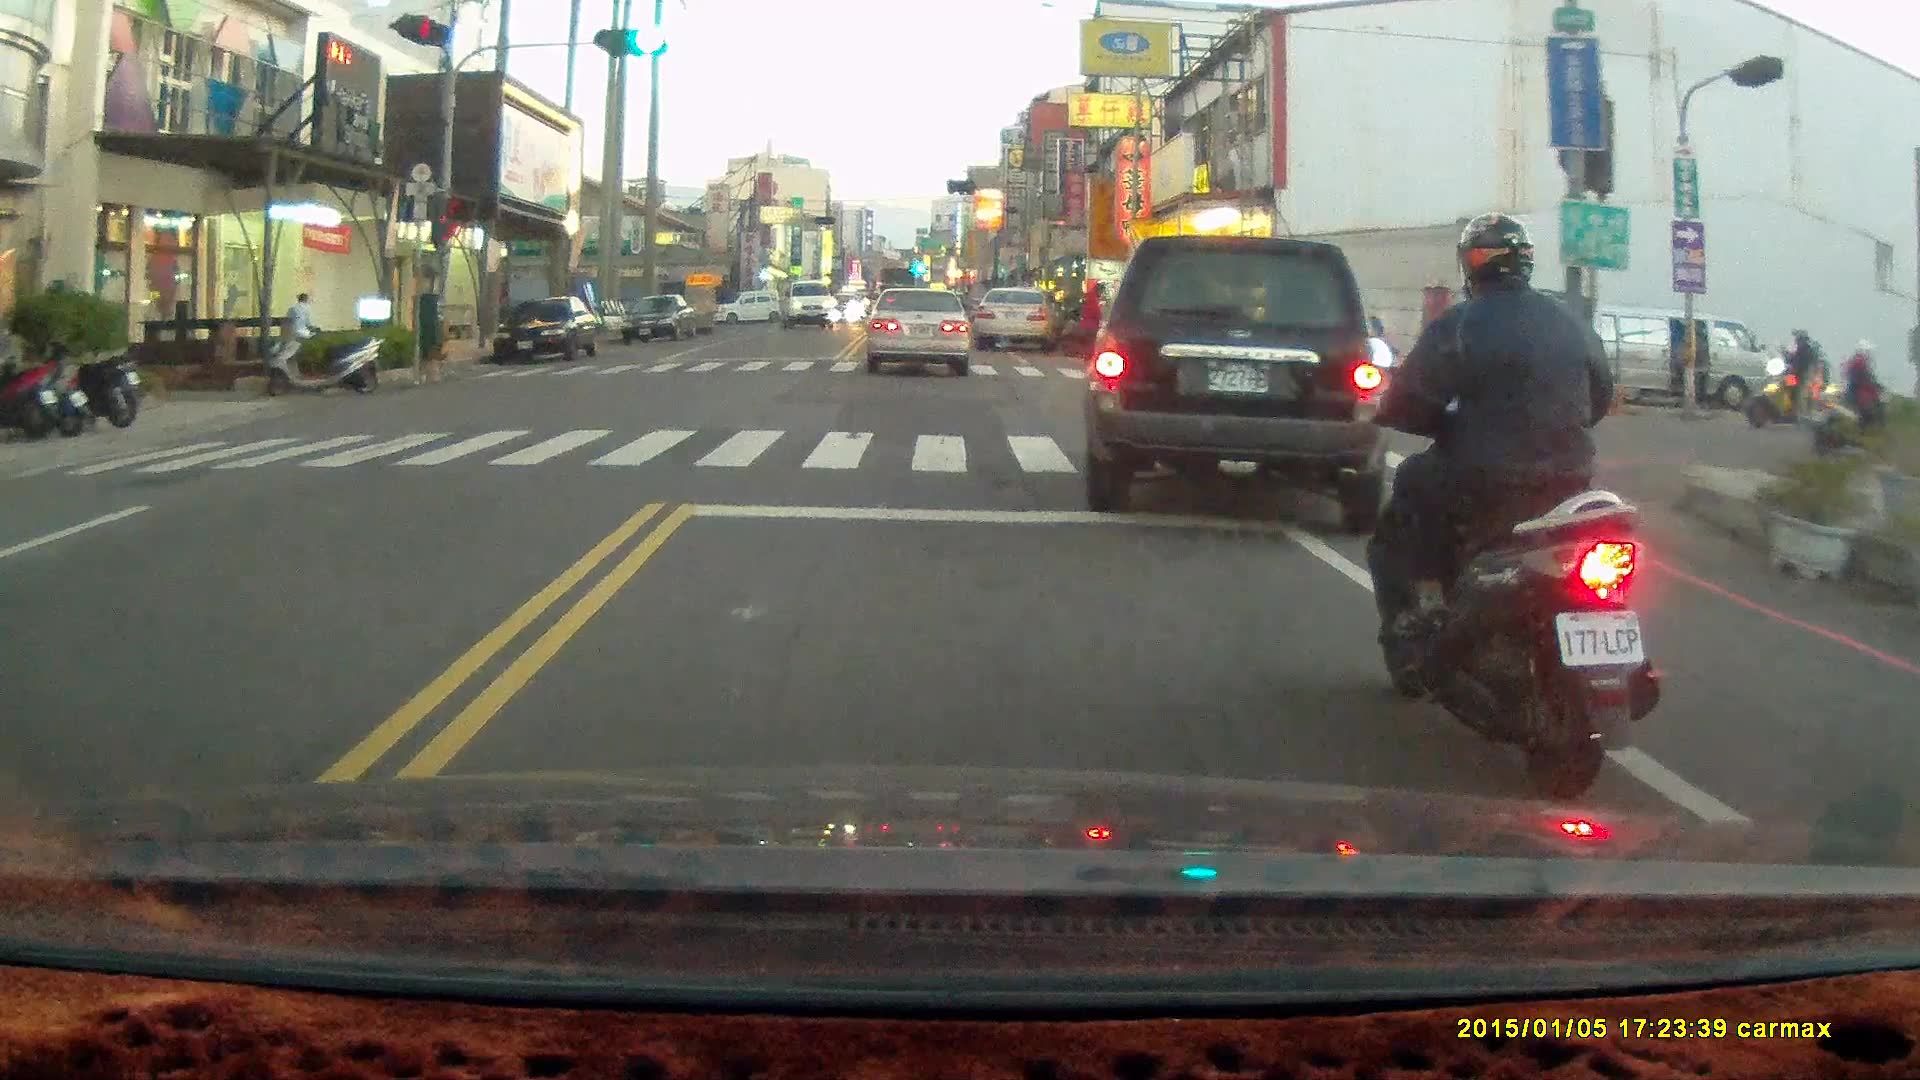pedestrian: (1077, 282, 1109, 378), (287, 290, 321, 355), (1687, 319, 1711, 400)
rider: (1351, 210, 1659, 796), (1812, 335, 1892, 466), (1747, 323, 1833, 430)
vehicle: (1081, 231, 1395, 522), (1561, 300, 1788, 412), (865, 290, 977, 380), (498, 297, 598, 367), (970, 282, 1058, 359), (621, 294, 702, 348), (781, 279, 837, 334)
